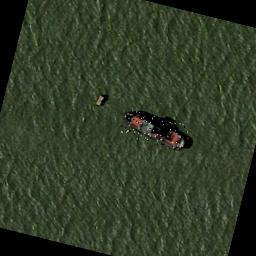boat: (120, 109, 192, 152)
